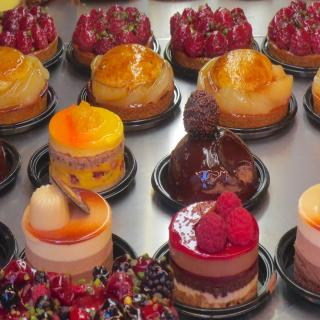Cake: (167, 190, 260, 308), (166, 92, 257, 206), (21, 174, 113, 274), (197, 49, 293, 128), (48, 100, 125, 194), (169, 3, 252, 71), (72, 3, 154, 65), (0, 46, 50, 124), (268, 0, 320, 65), (0, 5, 59, 62), (294, 183, 320, 294), (311, 68, 320, 116), (0, 143, 5, 179)
